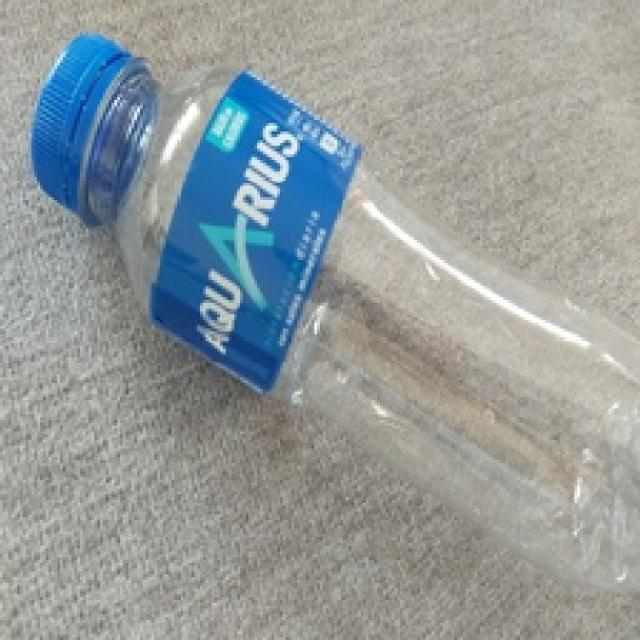Plastic: (31, 29, 640, 602)
